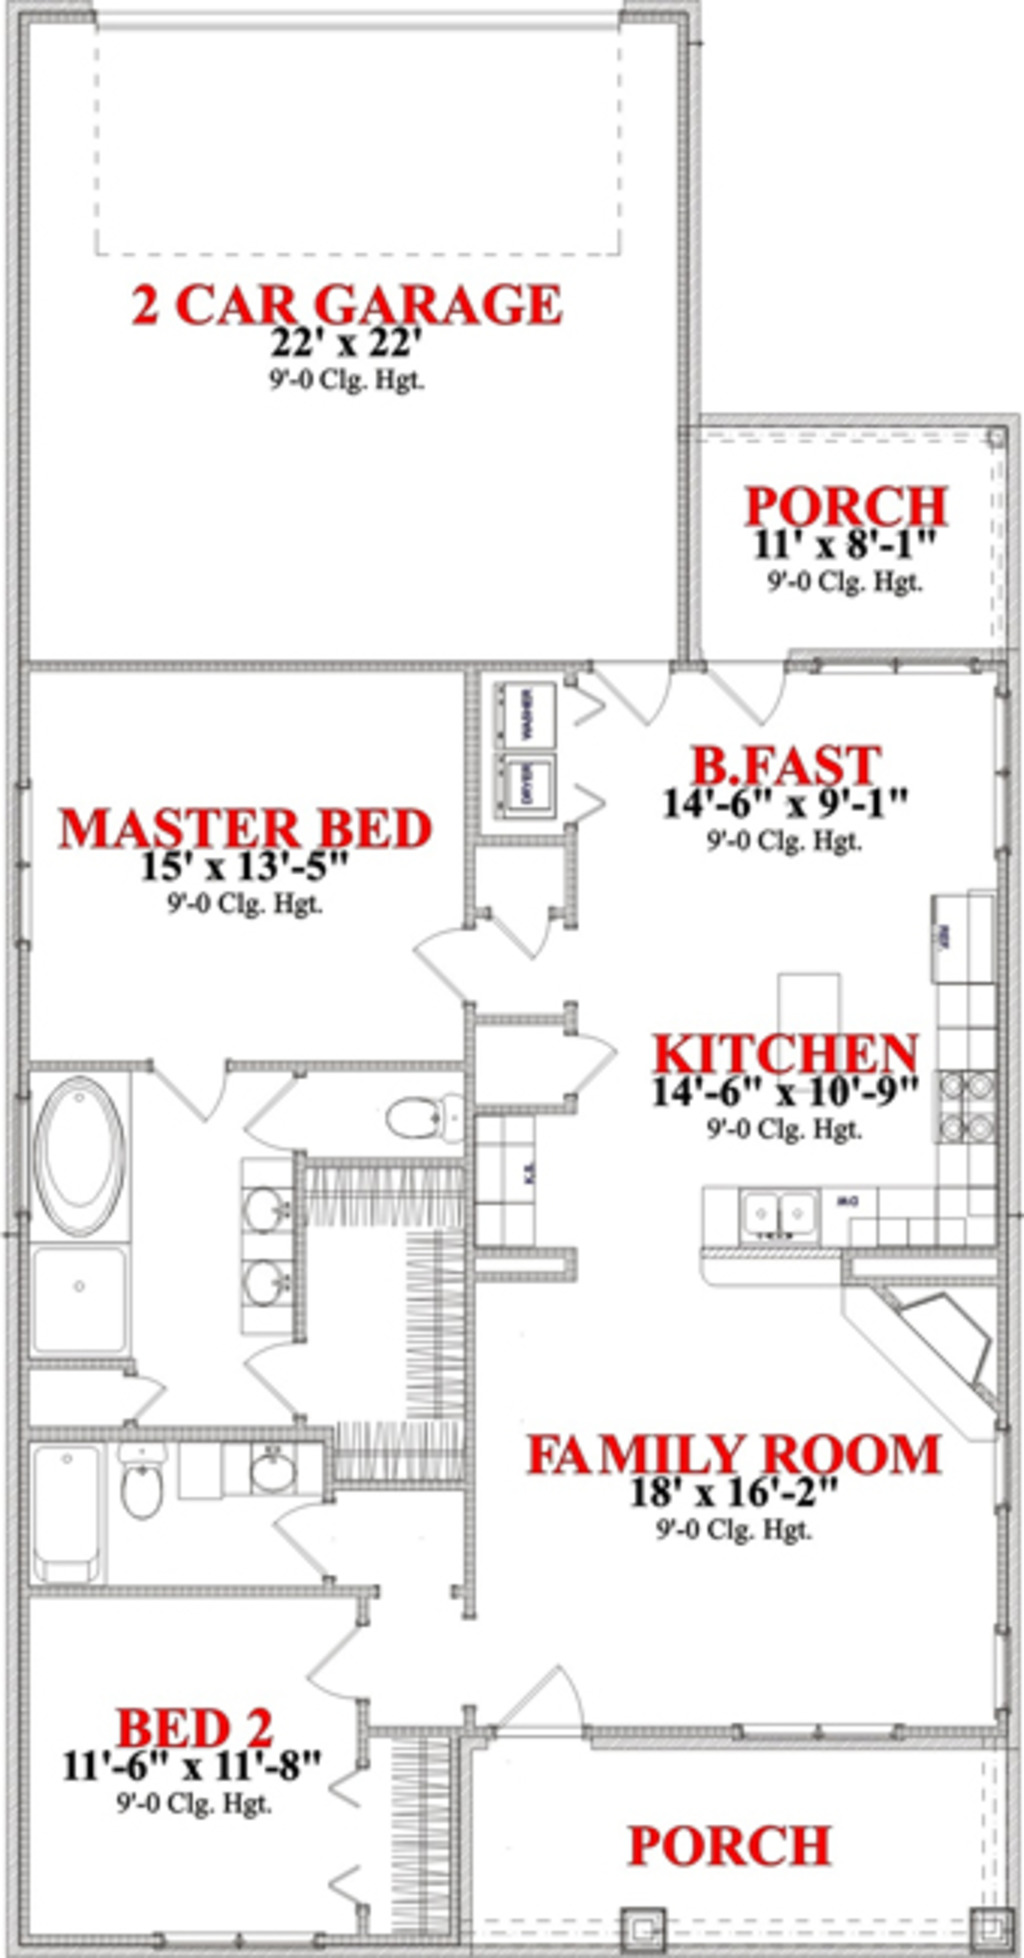door: (495, 1660, 598, 1751), (704, 654, 804, 733), (589, 657, 680, 742), (413, 910, 485, 1017), (153, 1052, 230, 1138), (247, 1339, 322, 1421), (241, 1061, 309, 1149), (307, 1620, 372, 1708), (265, 1505, 347, 1572), (559, 1039, 621, 1111), (501, 890, 555, 966), (107, 1355, 162, 1427)
large_sink: (368, 1075, 462, 1156), (113, 1436, 177, 1533)
small_sink: (238, 1163, 309, 1333)
tub: (13, 1075, 141, 1257), (25, 1443, 107, 1593)
twin_sink: (740, 1184, 841, 1257)
window: (725, 1711, 917, 1746), (148, 1920, 325, 1954)
